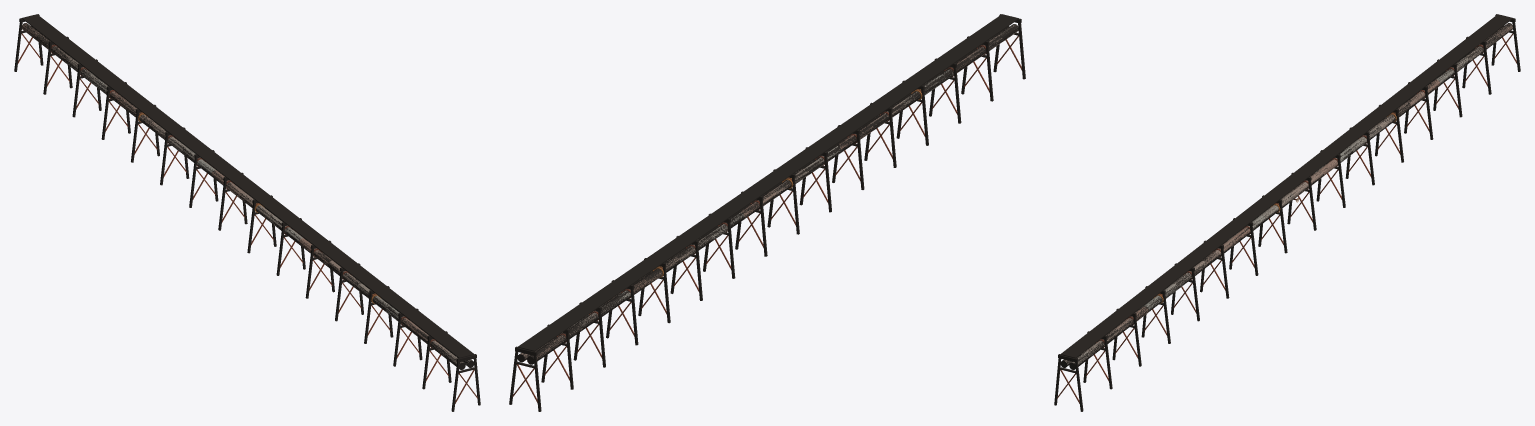
Rendered from pipeline_rail.glb.
The picture shows the model from 3 angles, left to right: view 1: azimuth 30°, elevation 25°; view 2: azimuth 150°, elevation 25°; view 3: azimuth 330°, elevation 25°; orthographic projection. The views are drawn at different scales.
Visible parts, largest first — view 1: pipeline_rail-col-col, pipeline_rail_body; view 2: pipeline_rail-col-col, pipeline_rail_body; view 3: pipeline_rail-col-col, pipeline_rail_body.
Part boxes in pixels (x1,y1,x2,y2): pipeline_rail-col-col: [14, 14, 480, 411]; pipeline_rail_body: [18, 23, 477, 403]; pipeline_rail-col-col: [509, 14, 1025, 411]; pipeline_rail_body: [512, 24, 1021, 402]; pipeline_rail-col-col: [1054, 14, 1520, 411]; pipeline_rail_body: [1057, 24, 1516, 403].
Bounding box in the file's own units: 4.48 × 11.02 × 120.
